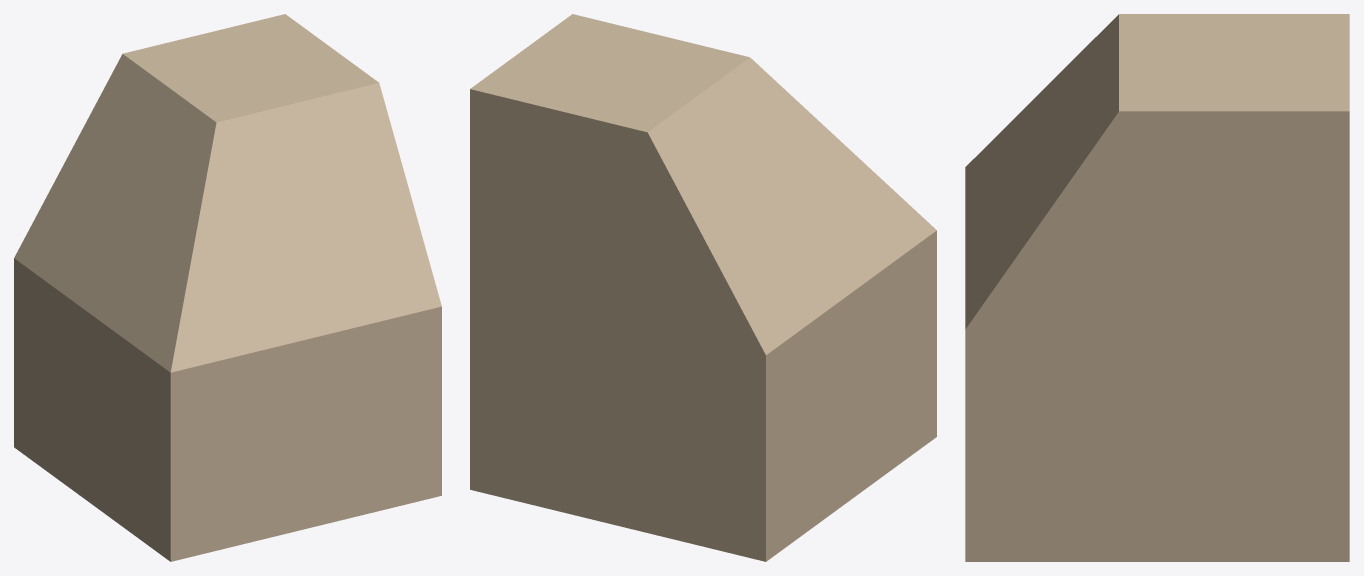
Rendered from SM_Ground_Curb_Corner_01.fbx.
The picture shows the model from 3 angles, left to right: view 1: azimuth 30°, elevation 25°; view 2: azimuth 150°, elevation 25°; view 3: azimuth 270°, elevation 25°; orthographic projection. The views are drawn at different scales.
Parts seen in each view (by area): view 1: SM_Ground_Curb_Corner_01; view 2: SM_Ground_Curb_Corner_01; view 3: SM_Ground_Curb_Corner_01.
Part boxes in pixels (box(x1,y1,x2,y2)): SM_Ground_Curb_Corner_01: box(14, 14, 441, 561); SM_Ground_Curb_Corner_01: box(470, 14, 936, 561); SM_Ground_Curb_Corner_01: box(965, 14, 1349, 561).
Bounding box in the file's own units: 0.15 × 0.194 × 0.15.
Materials: 1 (1 with a texture image).
